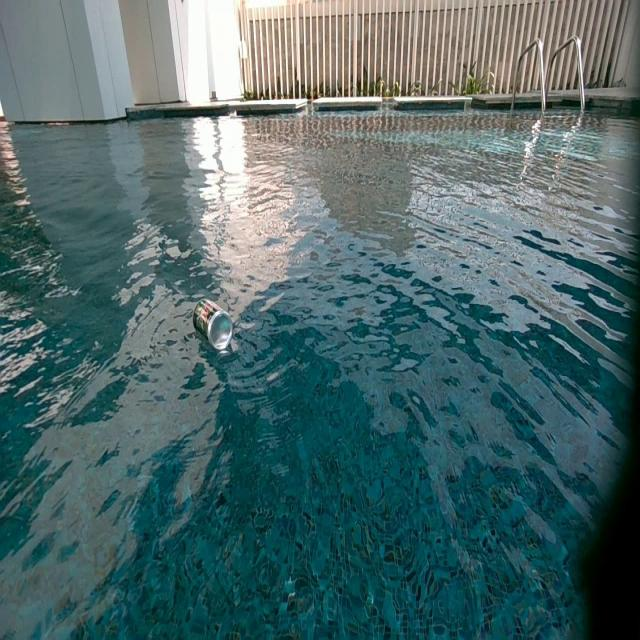Cans: (192, 300, 234, 352)
